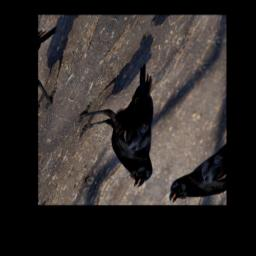Crow: (57, 51, 200, 191)
